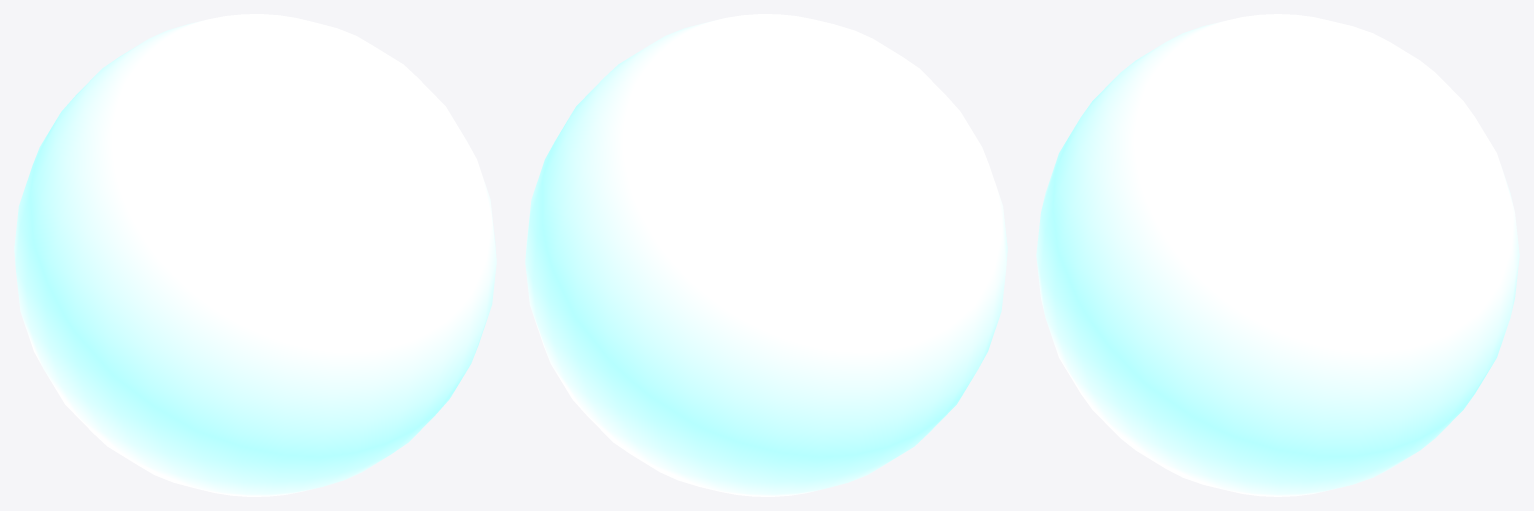
Rendered from PLHEnvironment.gltf.
3 renders of one model, left to right at view 1: azimuth 30°, elevation 25°; view 2: azimuth 150°, elevation 25°; view 3: azimuth 270°, elevation 25°, orthographic.
Visible parts, largest first — view 1: Sphere; view 2: Sphere; view 3: Sphere.
Boxes of the visible parts, <box> form: Sphere: <box>14,14,496,496</box>; Sphere: <box>525,14,1007,496</box>; Sphere: <box>1036,14,1519,496</box>.
Bounding box in the file's own units: 149 × 149 × 149.
